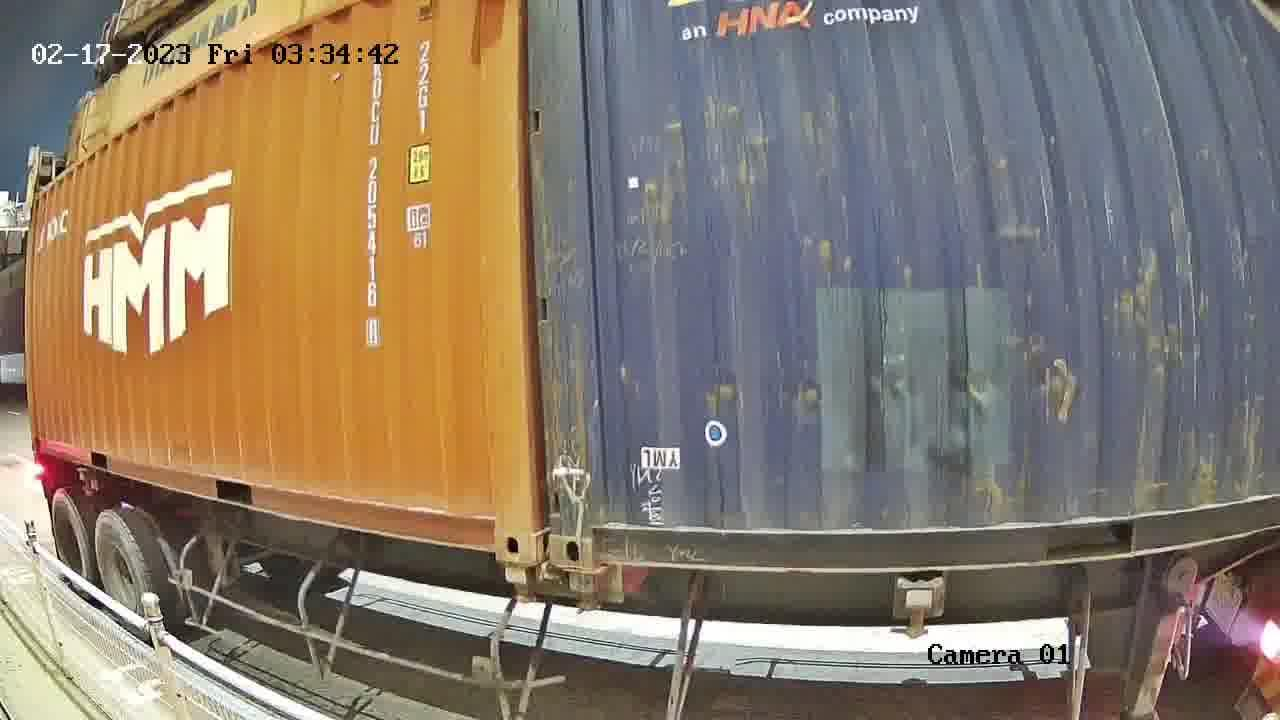Cone: (563, 570, 606, 613), (495, 564, 537, 607)
Hole_L: (546, 497, 633, 568)
Hole_R: (457, 488, 534, 566)
Tire: (96, 513, 151, 632), (51, 492, 94, 597)
